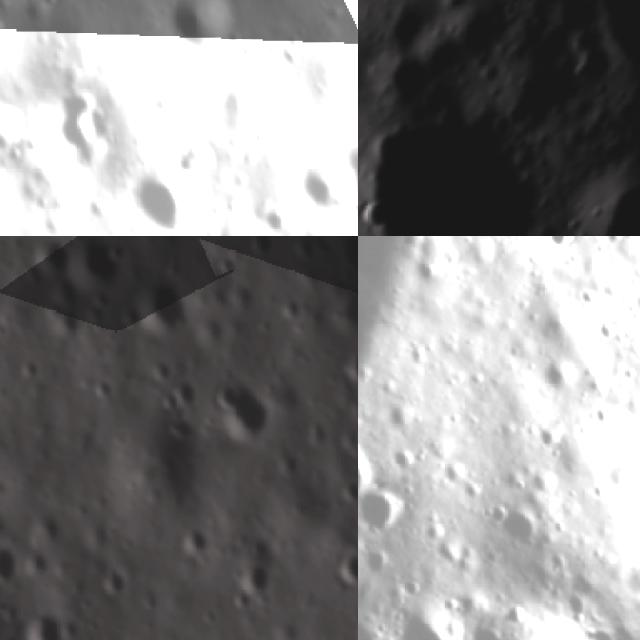crater: (358, 59, 596, 236), (543, 131, 640, 236), (126, 152, 215, 236), (440, 0, 523, 77), (205, 374, 282, 456), (54, 90, 124, 176), (158, 0, 251, 60), (132, 272, 198, 348), (63, 236, 129, 305), (372, 0, 443, 64), (292, 158, 358, 224), (562, 26, 622, 88), (358, 475, 416, 539), (492, 494, 546, 550), (230, 556, 275, 606), (0, 84, 25, 173), (27, 236, 73, 279), (358, 430, 383, 507), (23, 605, 74, 640), (324, 545, 358, 594), (175, 521, 212, 564), (254, 198, 294, 236), (165, 416, 203, 454), (534, 236, 589, 262), (98, 560, 130, 602), (0, 541, 26, 592), (240, 236, 278, 263), (332, 475, 358, 512), (338, 348, 358, 391), (157, 388, 185, 417), (17, 359, 44, 388), (90, 377, 114, 408), (150, 356, 173, 384), (358, 154, 368, 194)
